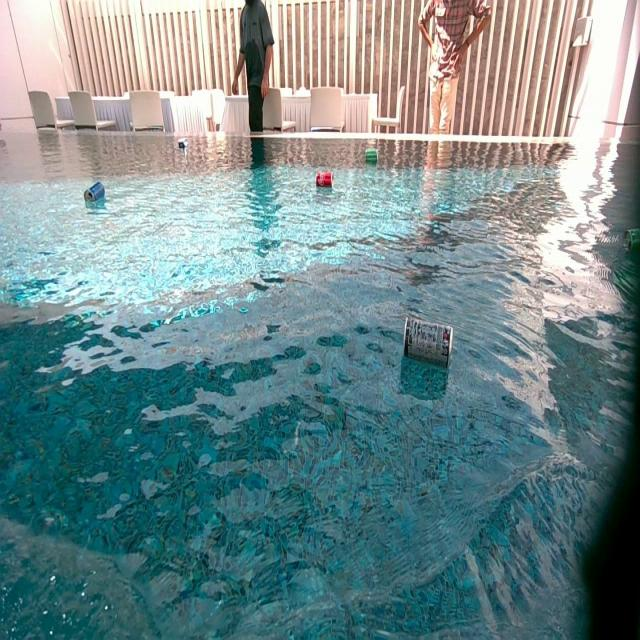Cans: (403, 318, 454, 374), (86, 181, 106, 201), (628, 228, 640, 252), (316, 173, 332, 188), (364, 147, 378, 162), (177, 139, 188, 149)
